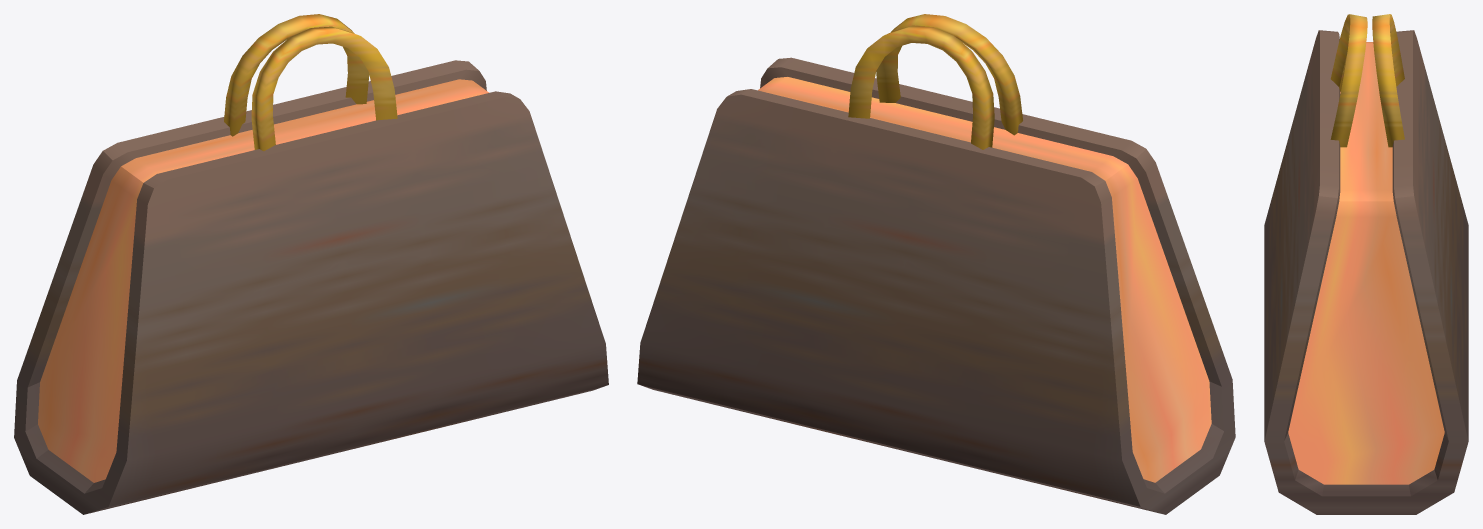
The picture shows the model from 3 angles, left to right: view 1: azimuth 30°, elevation 25°; view 2: azimuth 150°, elevation 25°; view 3: azimuth 270°, elevation 25°; orthographic projection. The views are drawn at different scales.
Visible parts, largest first — view 1: HandbagsAndPurses00; view 2: HandbagsAndPurses00; view 3: HandbagsAndPurses00.
Part boxes in pixels (x1=…): HandbagsAndPurses00: x1=14, y1=14, x2=608, y2=514; HandbagsAndPurses00: x1=637, y1=14, x2=1235, y2=514; HandbagsAndPurses00: x1=1264, y1=14, x2=1468, y2=514.
Size of what is drawn, in the model's own units: 0.5148 by 0.3938 by 0.1921.
Materials: 1 (1 with a texture image).
